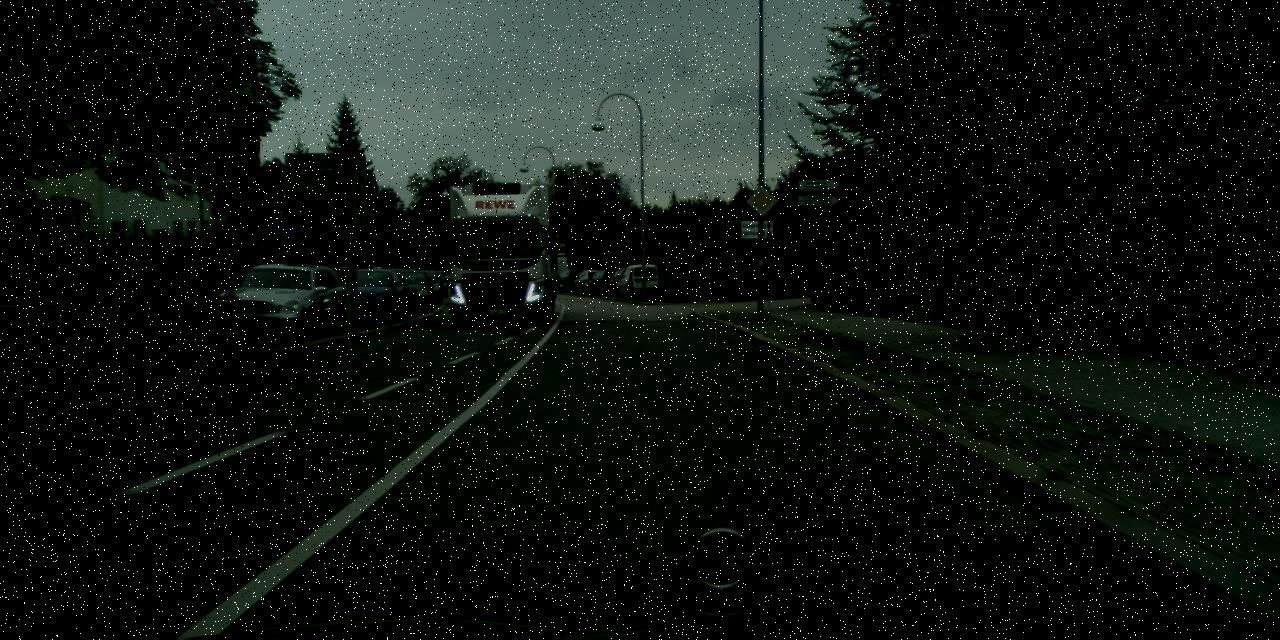ped: (995, 214, 1051, 350), (952, 233, 999, 350), (382, 259, 396, 297)
